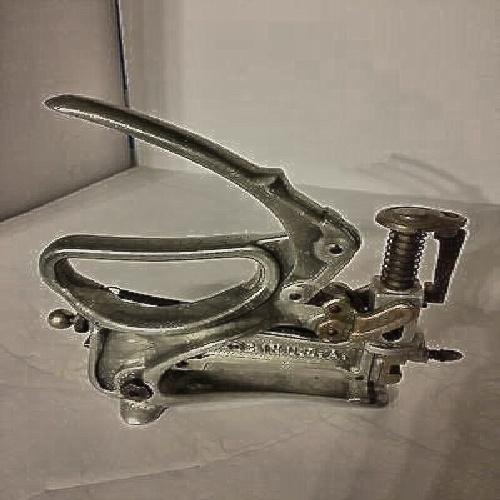stapler: (38, 90, 461, 407)
